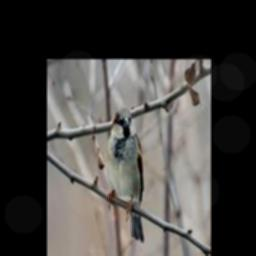Sparrow: (107, 107, 144, 242)
